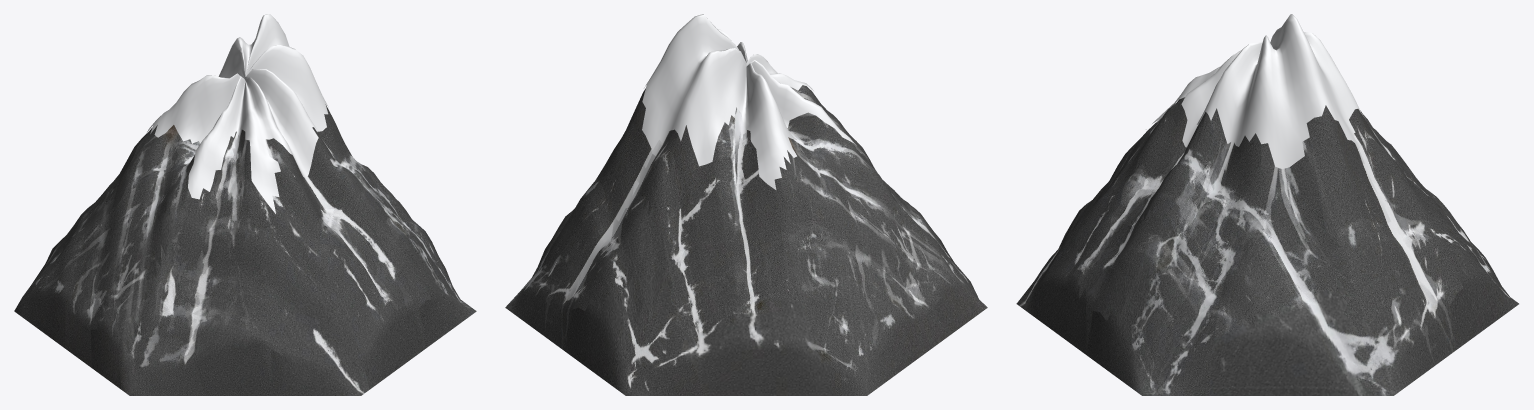
File: mountain.glb
3 views of the same model, side by side, from view 1: azimuth 30°, elevation 25°; view 2: azimuth 150°, elevation 25°; view 3: azimuth 270°, elevation 25° (orthographic). The views are drawn at different scales.
Visible parts, largest first — view 1: mountain, snow; view 2: mountain, snow; view 3: mountain, snow.
Part boxes in pixels (x1,y1,x2,y2): mountain: (14,79,476,395); snow: (146,14,328,213); mountain: (505,85,987,395); snow: (642,14,856,189); mountain: (1016,97,1518,395); snow: (1146,14,1364,168).
Size of the model in its own units: 0.8141 by 0.631 by 0.94.
Materials: 2 (1 with a texture image).
